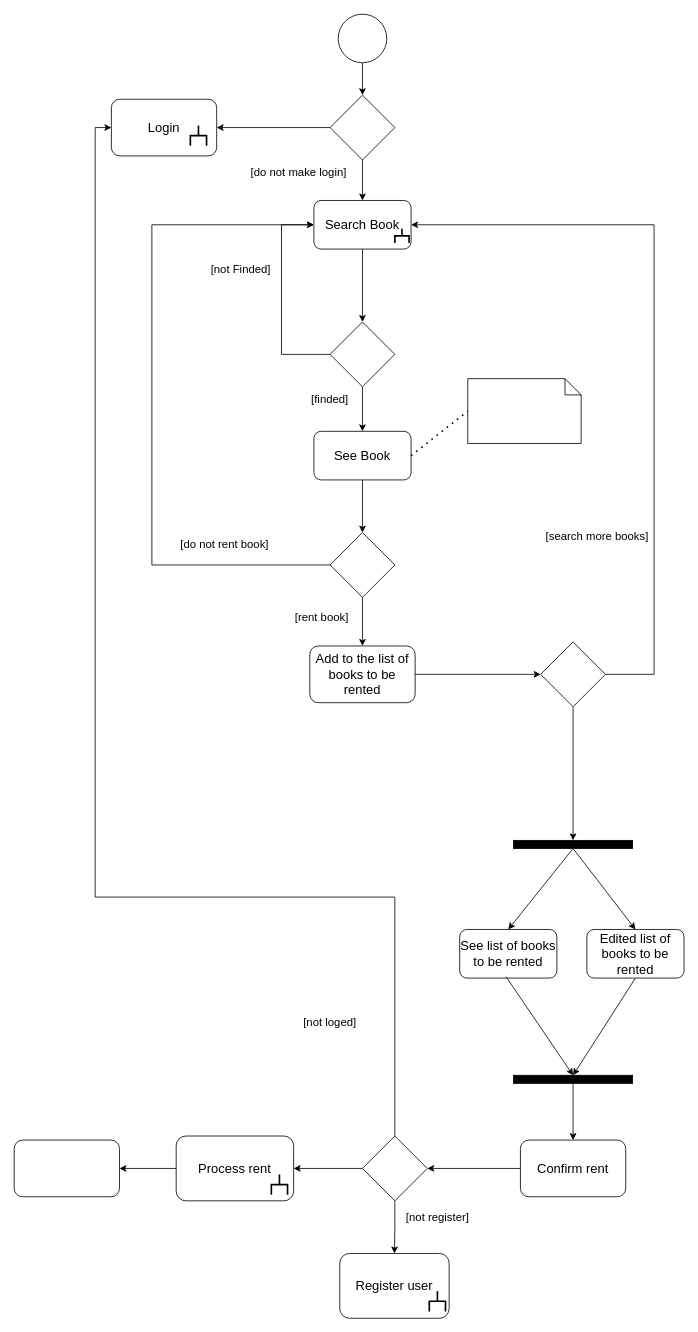
This 698x1332 diagram has some shape labels left out. Each missing label, with the centre of its shape:
Description and infos of the book: the point at 524,410
Rented Successfully: the point at 66,1168
